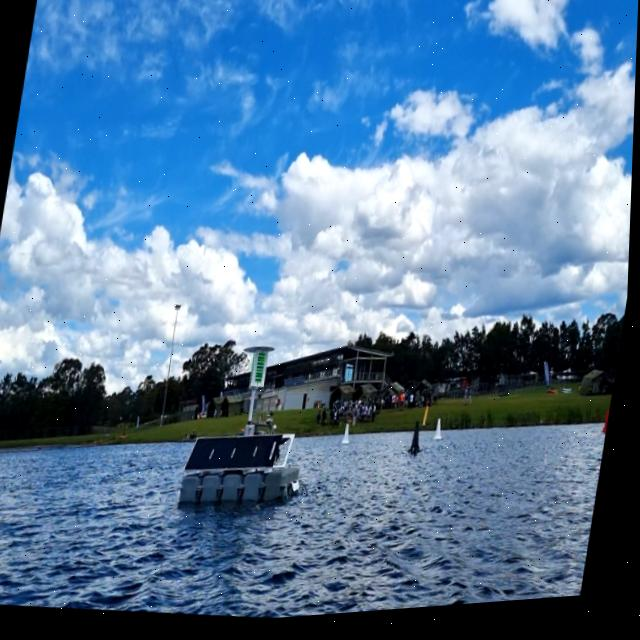led: (255, 353, 271, 391)
